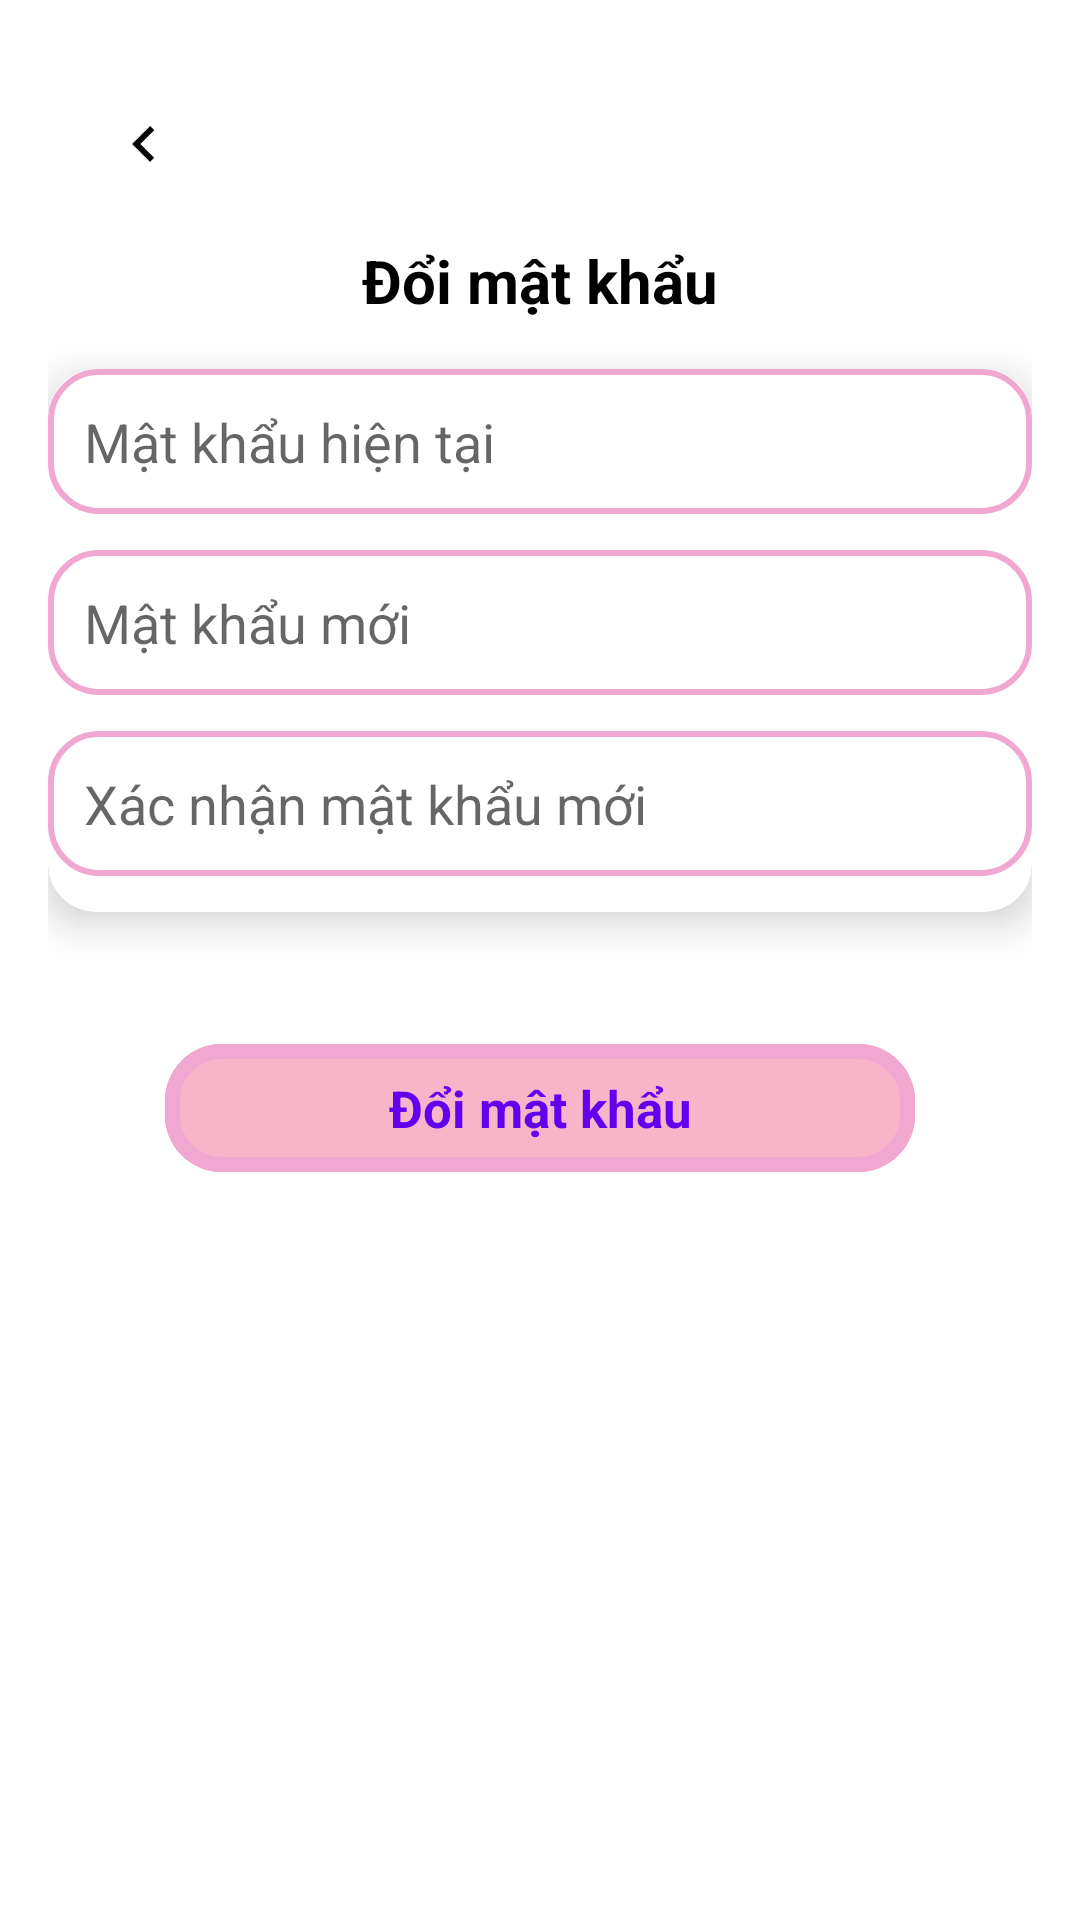

Icons on this 1080*1920 Android screen, each with the point to tap as (x,y):
Quay lại: (143,144)
